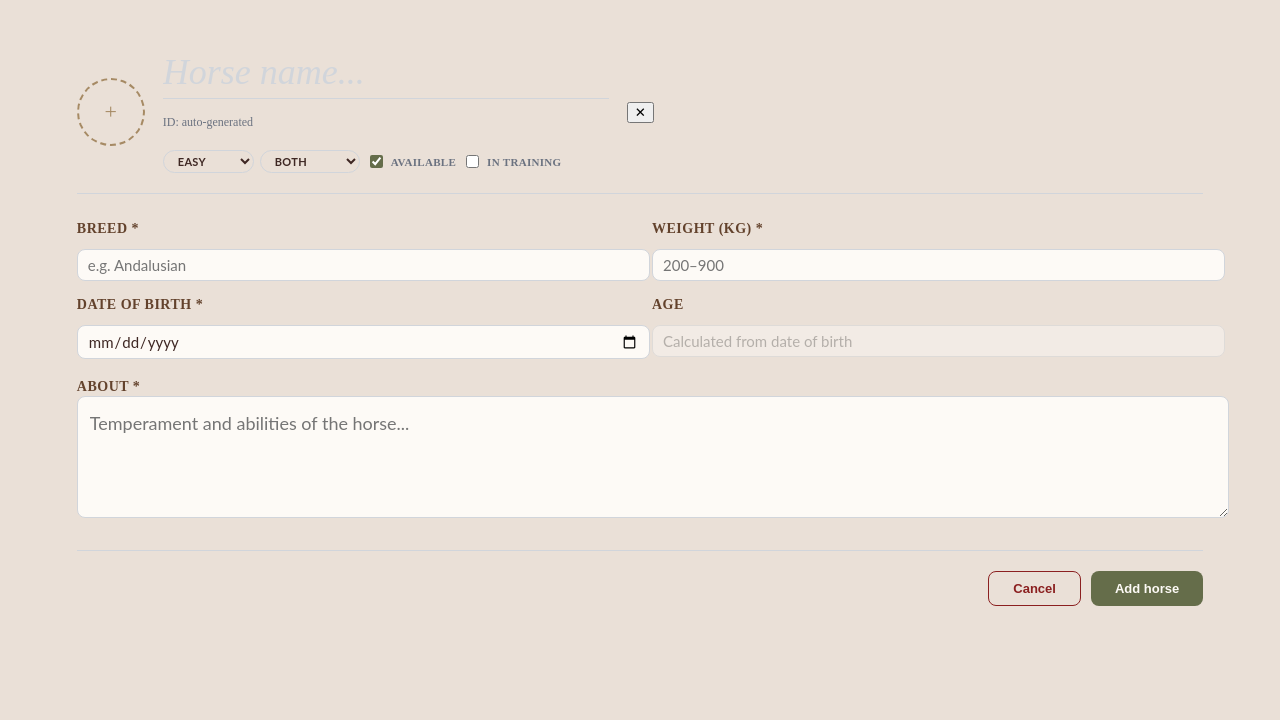
Test: HorseDetailView – mode: add › shows validation errors when submitted empty
Click the button "Add horse" at [1147, 589], box [1091, 571, 1203, 606]
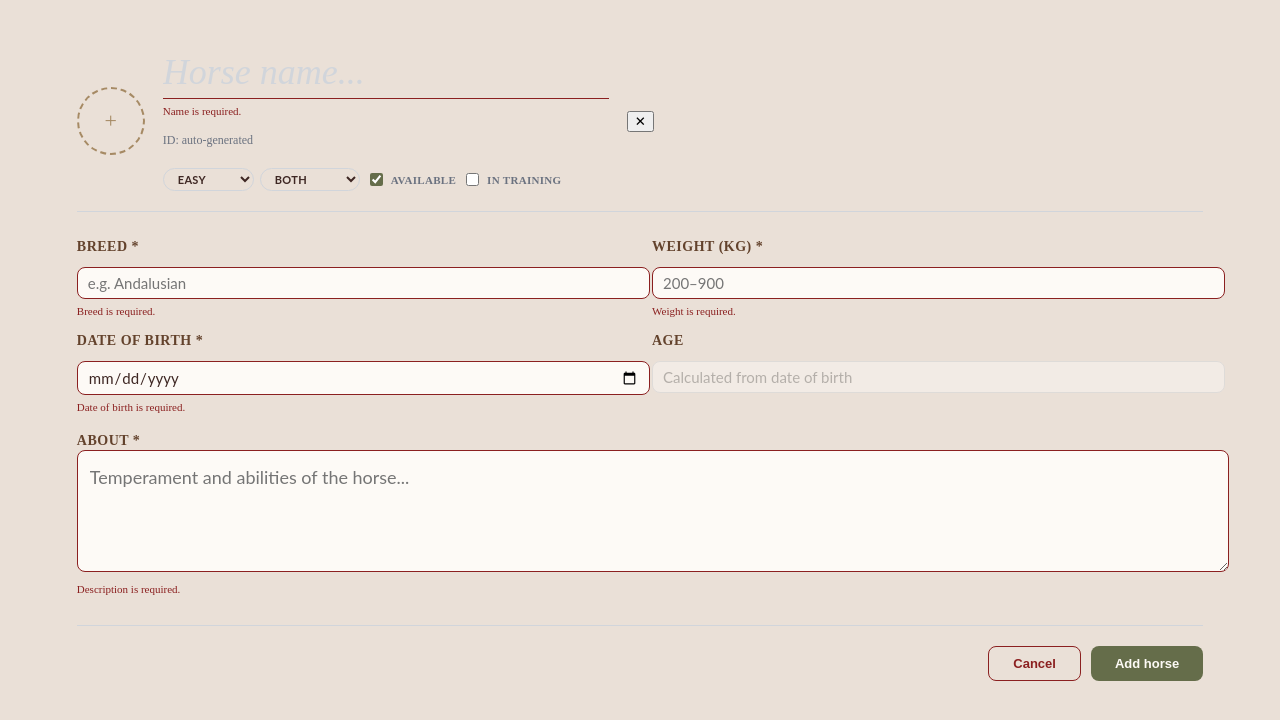
Now the text "Name is required." is shown, box [163, 105, 241, 117]
